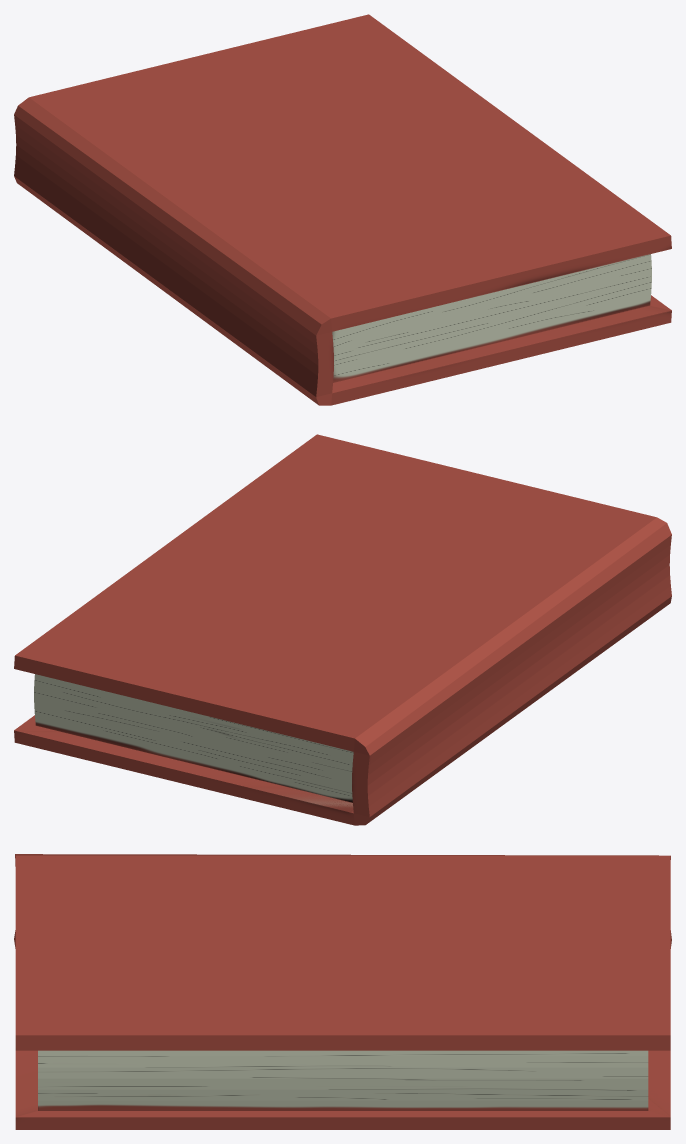
File: bbos.fbx
3 views of the same model, one above another, from view 1: azimuth 30°, elevation 25°; view 2: azimuth 150°, elevation 25°; view 3: azimuth 270°, elevation 25° (orthographic). The views are drawn at different scales.
Parts seen in each view (by area): view 1: Book; view 2: Book; view 3: Book.
Boxes of the visible parts, bbox=[...] form: Book: bbox=[14, 14, 671, 405]; Book: bbox=[14, 434, 671, 825]; Book: bbox=[14, 854, 671, 1129].
Bounding box in the file's own units: 29.91 × 7 × 44.2.
